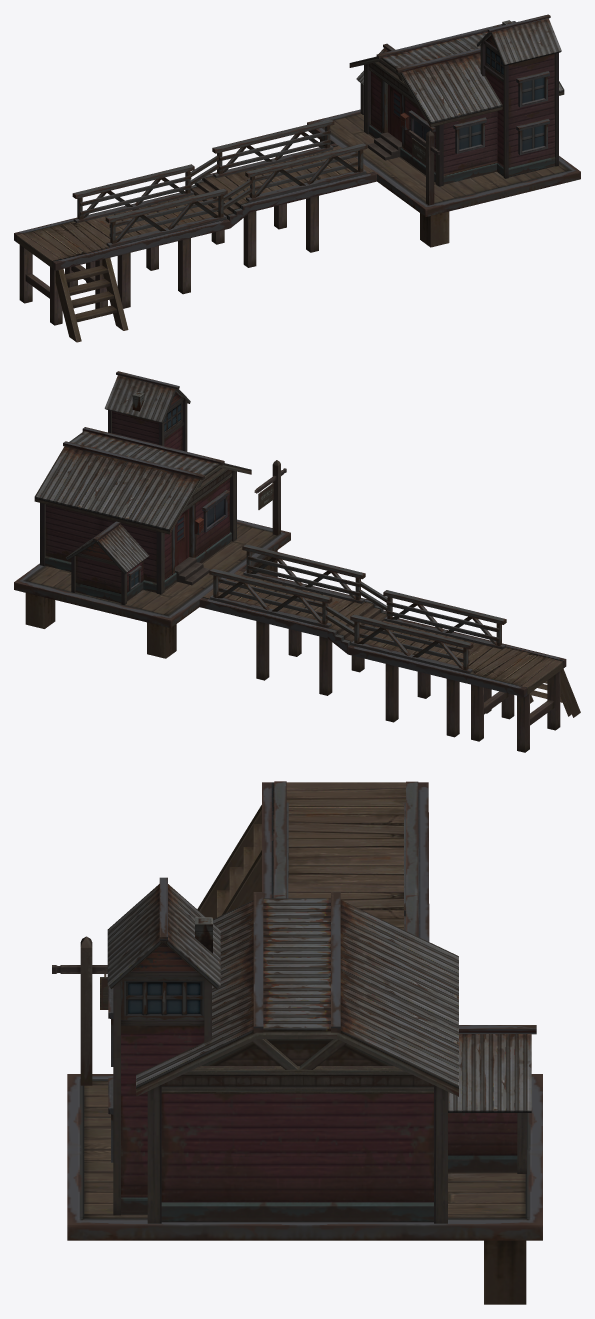
The model's file is WMWharf2.FBX.
The picture shows the model from 3 angles, top to bottom: view 1: azimuth 30°, elevation 25°; view 2: azimuth 150°, elevation 25°; view 3: azimuth 270°, elevation 25°; orthographic projection. The views are drawn at different scales.
Visible parts, largest first — view 1: matou2; view 2: matou2; view 3: matou2.
Boxes of the visible parts, x1,y1,x2,y2 form: matou2: (14, 14, 580, 342); matou2: (14, 371, 580, 752); matou2: (52, 781, 542, 1304).
Size of the model in its own units: 1.8 by 0.7874 by 0.8013.
Materials: 1 (1 with a texture image).
